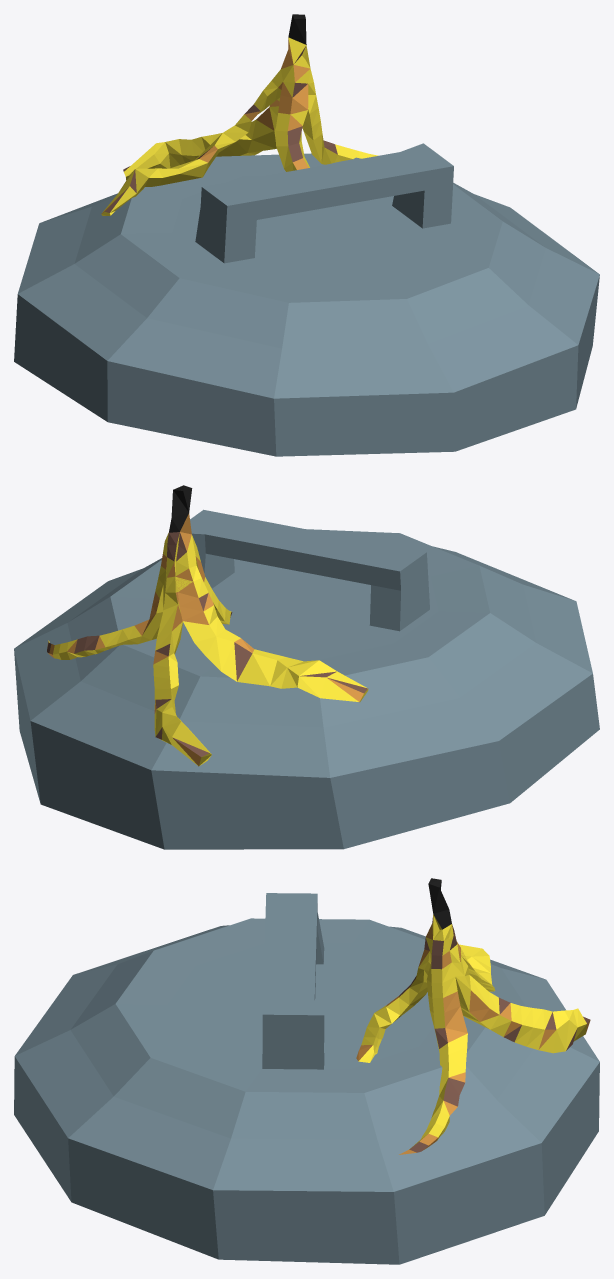
The model's file is trashCanLid.fbx.
3 views of the same model, one above another, from view 1: azimuth 30°, elevation 25°; view 2: azimuth 150°, elevation 25°; view 3: azimuth 270°, elevation 25° (orthographic).
Parts seen in each view (by area): view 1: group_799439630, mesh_5319319, group_1654266571, mesh_645389299, group_1422156943; view 2: group_799439630, mesh_5319319, group_1654266571, group_1422156943, mesh_645389299; view 3: group_799439630, group_1654266571, group_1422156943, mesh_645389299, mesh_5319319.
Boxes of the visible parts, x1,y1,x2,y2 form: group_799439630: [14, 143, 599, 456]; mesh_5319319: [101, 18, 310, 215]; group_1654266571: [123, 14, 306, 179]; mesh_645389299: [275, 37, 310, 171]; group_1422156943: [302, 69, 377, 164]; group_799439630: [14, 509, 599, 849]; mesh_5319319: [175, 513, 368, 702]; group_1654266571: [153, 485, 211, 766]; group_1422156943: [47, 533, 168, 659]; mesh_645389299: [192, 535, 232, 624]; group_799439630: [14, 893, 599, 1264]; group_1654266571: [428, 878, 590, 1053]; group_1422156943: [399, 924, 467, 1154]; mesh_645389299: [356, 915, 433, 1062]; mesh_5319319: [433, 915, 495, 991].
Size of the model in its own units: 199 by 115 by 207.
